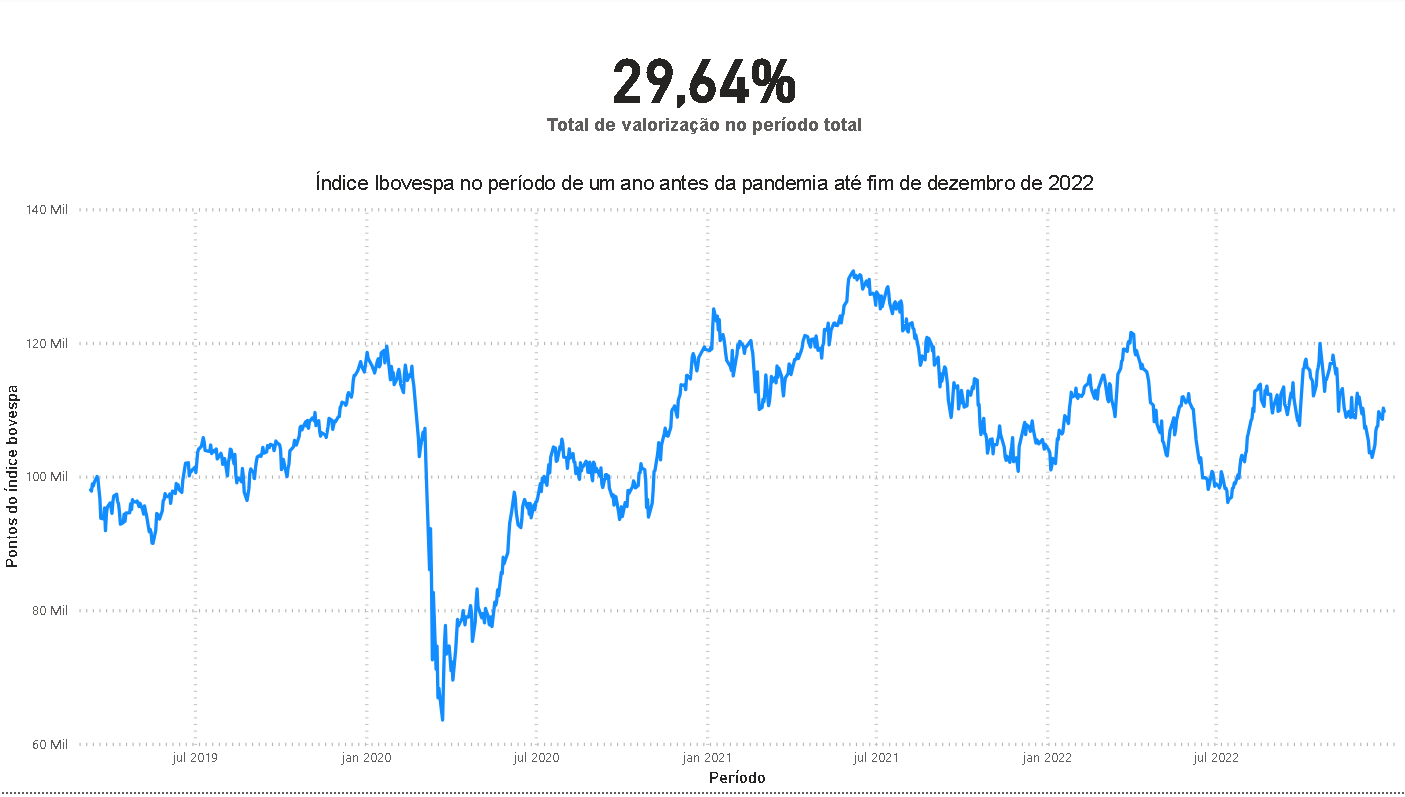

The dashboard page shown, as its layout file describes it:
{"tool":"powerbi","page":{"name":"Página 1","canvas":[1280,720],"ordinal":0},"visuals":[{"type":"lineChart","title":"Índice Ibovespa no período de um ano antes da pandemia até fim de dezembro de 2022","fields":{"Y":["Sum(Dados Históricos - Ibovespa.Último)"],"Category":["Dados Históricos - Ibovespa.Data.Variation.Hierarquia de datas.Ano","Dados Históricos - Ibovespa.Data.Variation.Hierarquia de datas.Trimestre","Dados Históricos - Ibovespa.Data.Variation.Hierarquia de datas.Mês","Dados Históricos - Ibovespa.Data.Variation.Hierarquia de datas.Dia"]},"box":[0,158.2,1279.5,561.8],"z":0},{"type":"card","fields":{"Values":["Sum(Dados Históricos - Ibovespa.Var%)"]},"box":[0,0,1279.3,158],"z":1}]}

Visuals, with their boxes in screenshot pixels (x1, y1, x2, y2), scaled from the page's 1280x720 canvas onto the 1405x797 screenshot:
"Índice Ibovespa no período de um ano antes da pandemia até fim de dezembro de 2022" lineChart: {"x1": 0, "y1": 175, "x2": 1404, "y2": 796}
card - Sum(Dados Históricos - Ibovespa.Var%): {"x1": 0, "y1": 0, "x2": 1404, "y2": 175}
